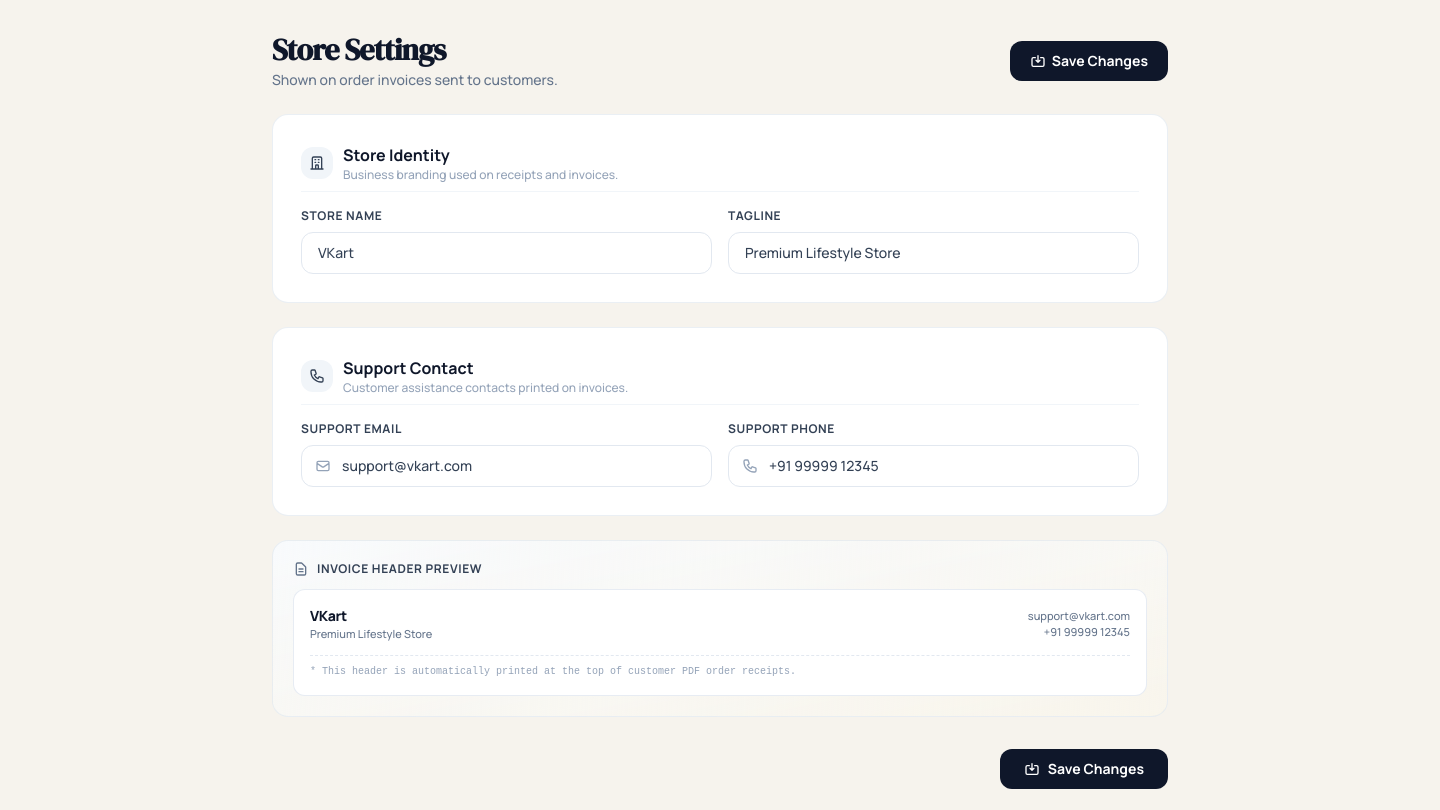
it: AdminSettings Component › shows the server error message when saving fails
Check: the field showing "VKart" below "Store Name" is shown, box top-left (301, 232), bottom-right (712, 274)
Click the button "Save Changes" in the row of "Store Settings".
click(1089, 61)  # box top-left (1010, 41), bottom-right (1168, 81)
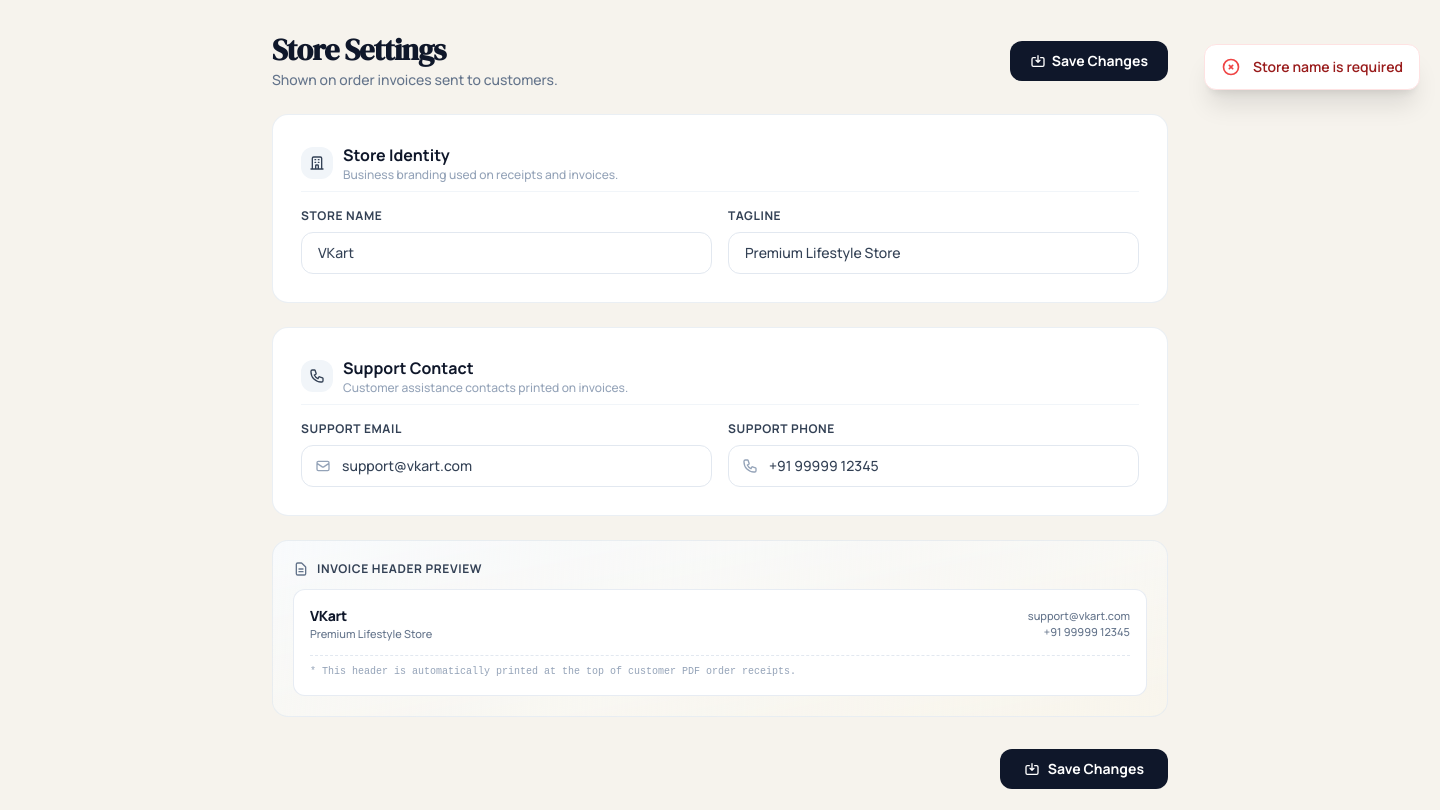
Check: the text "Store name is required" is shown, box top-left (1253, 57), bottom-right (1403, 77)
